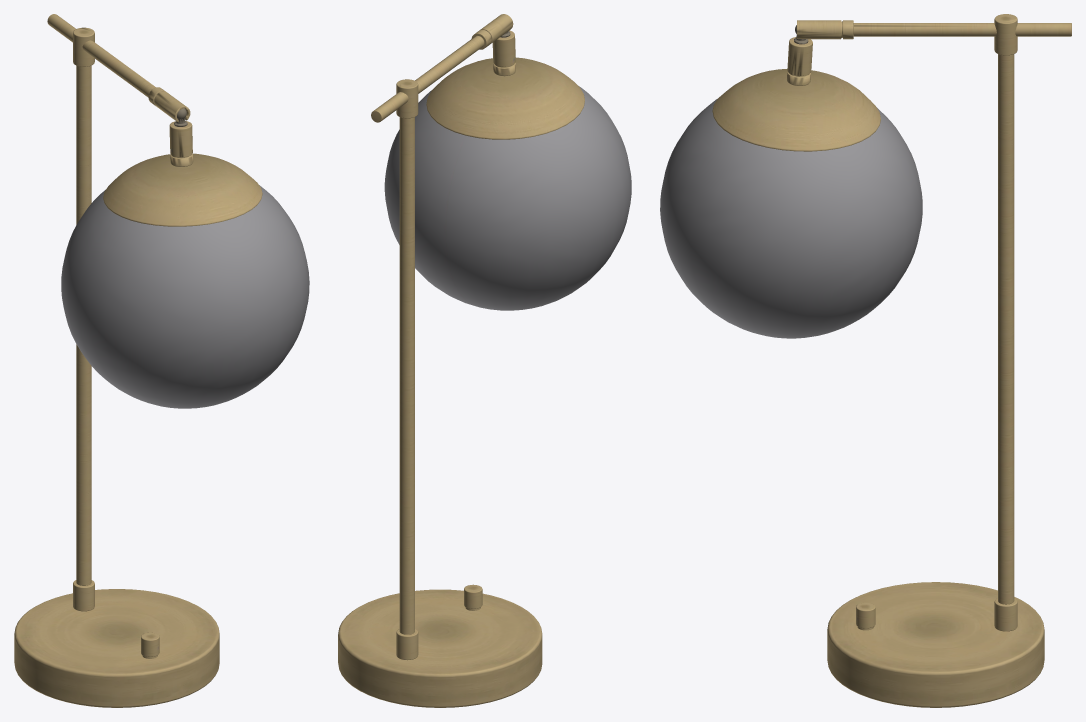
Rendered from B07DTFBDTL.glb.
3 renders of one model, left to right at view 1: azimuth 30°, elevation 25°; view 2: azimuth 150°, elevation 25°; view 3: azimuth 270°, elevation 25°, orthographic. The views are drawn at different scales.
Parts seen in each view (by area): view 1: Root; view 2: Root; view 3: Root.
Part boxes in pixels (bbox=[...]): Root: bbox=[14, 14, 309, 707]; Root: bbox=[338, 14, 631, 707]; Root: bbox=[660, 14, 1071, 707].
Size of the model in its own units: 0.2065 by 0.5588 by 0.3235.
1 material, 1 textured.
